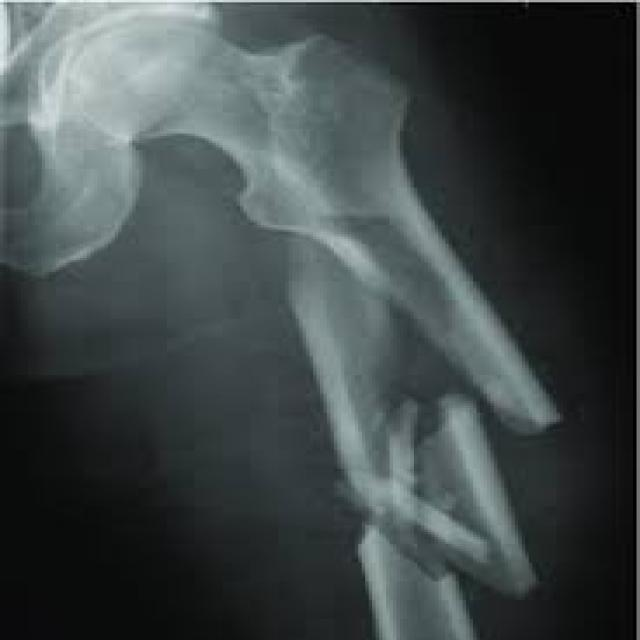comminuted: (289, 263, 568, 609)
